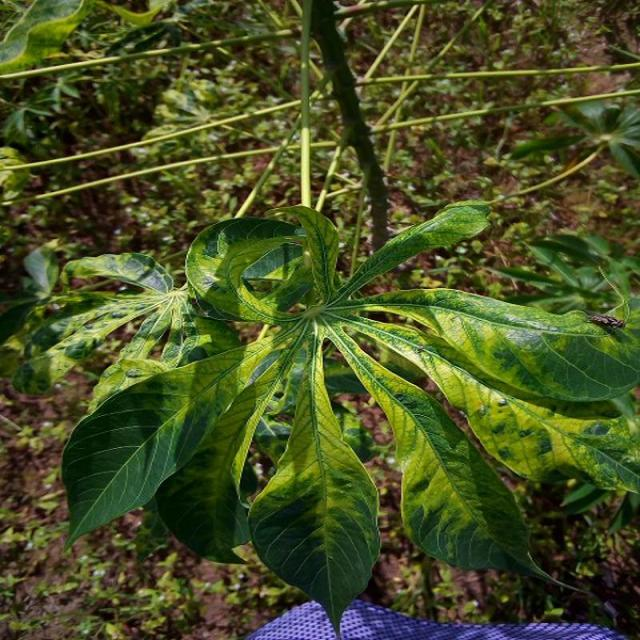cassava leaf: (24, 197, 638, 636)
